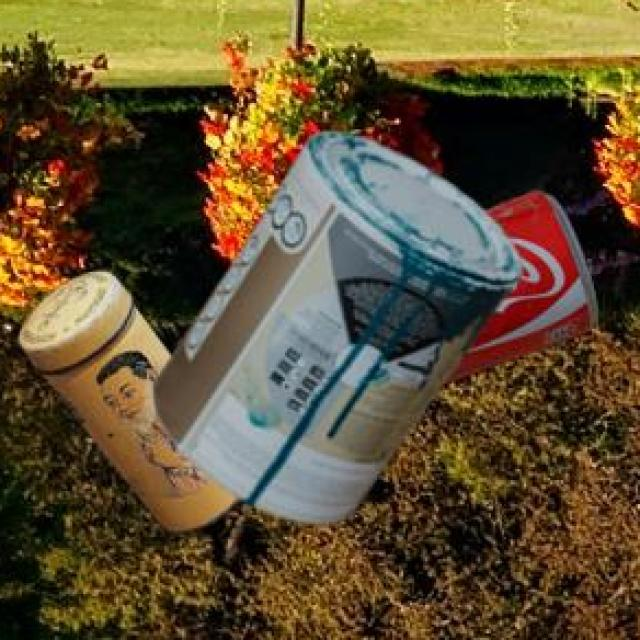logam: (150, 135, 518, 529), (16, 275, 238, 536), (441, 194, 595, 387)
